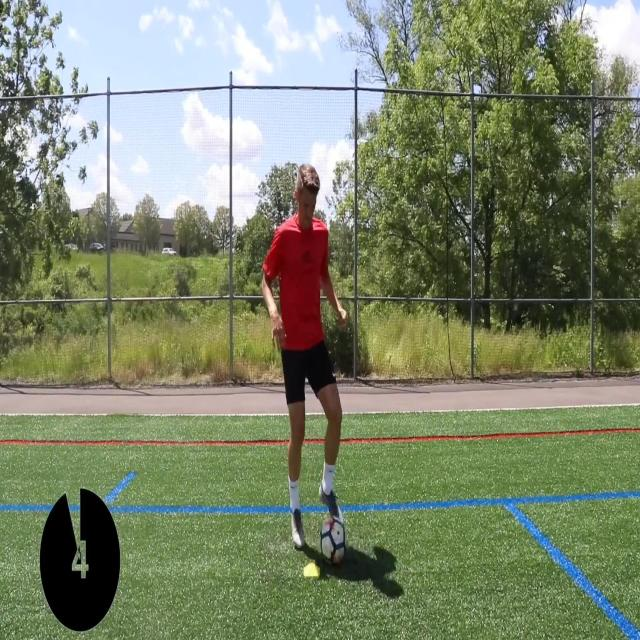Soccer Ball: (319, 516, 346, 563)
